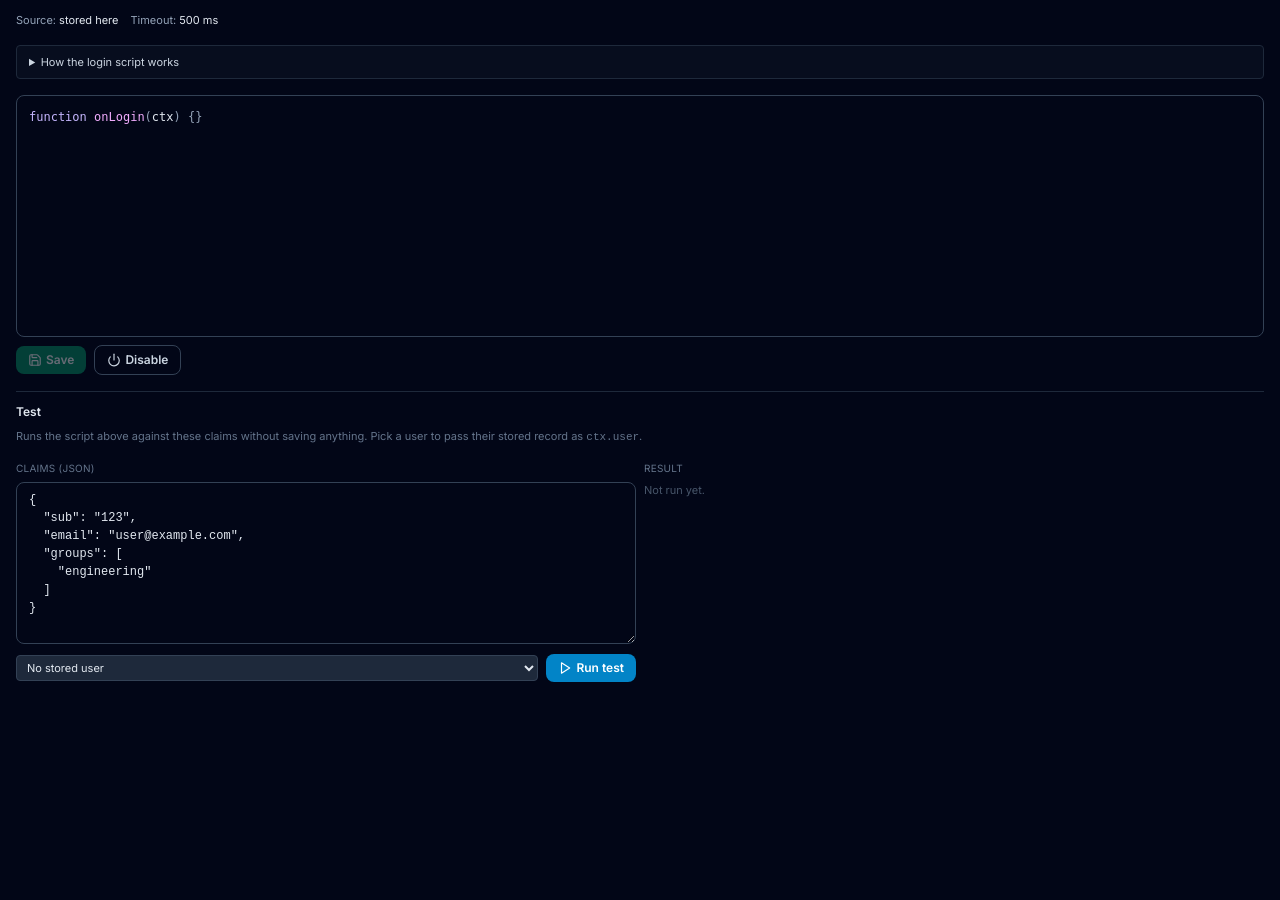
Test: the login script editor › disables the script after confirming
What coordinates should you click on to do the following:
click the button "Disable"
I would click on:
 (138, 360)
Its box is [94,345,181,375].
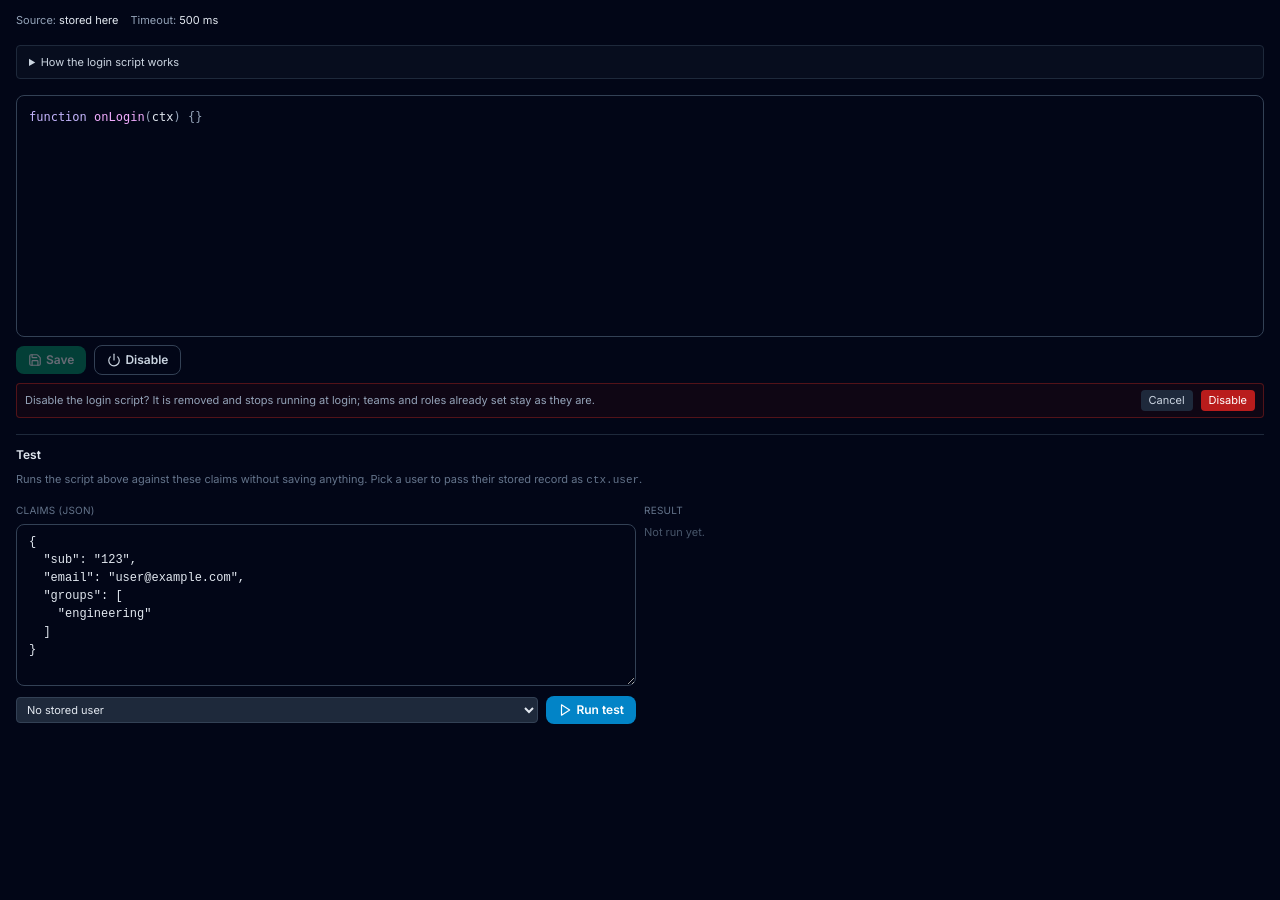
What coordinates should you click on to do the following:
click the 2nd button "Disable"
I would click on:
 (1228, 400)
Its box is [1201,390,1255,410].
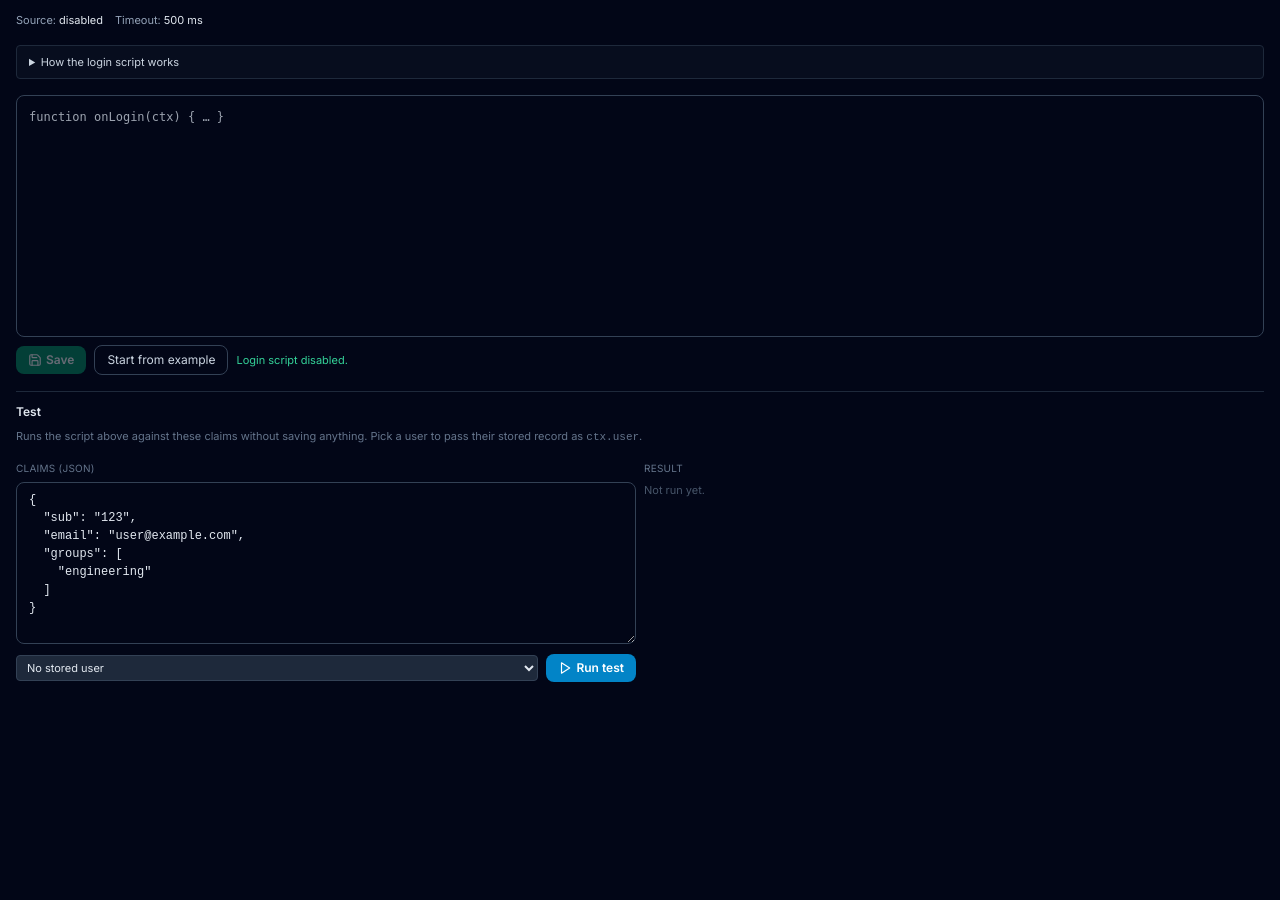
Now the text with test id "login-script-source" reads "disabled", box [59,13,103,27]
